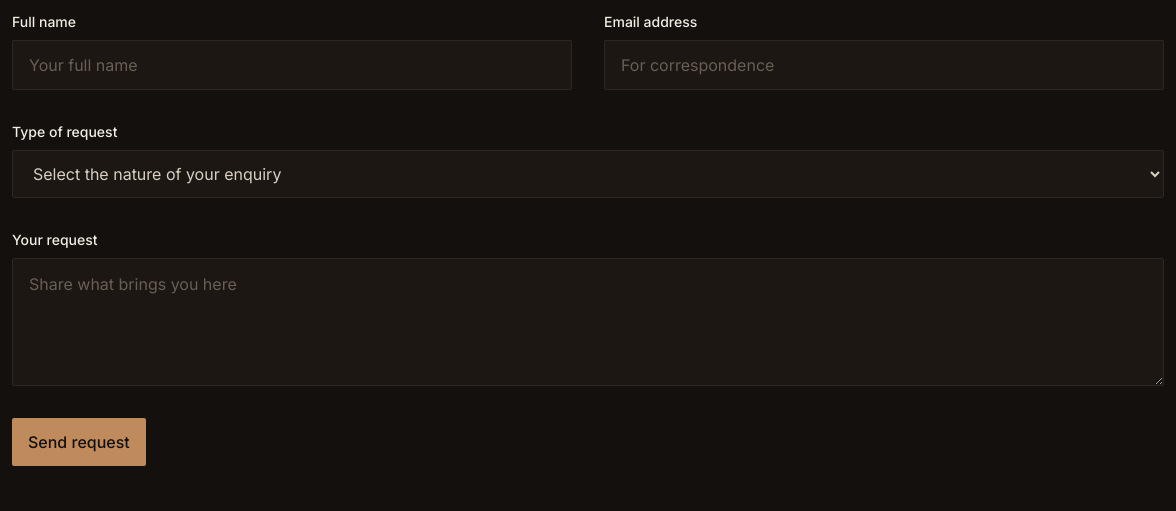
Test case: RequestForm — submitting › blocks a submission without a name
Type "thandi@example.com" into the field labelled "Email address" at {"x": 884, "y": 65}, box [604,40,1164,90]
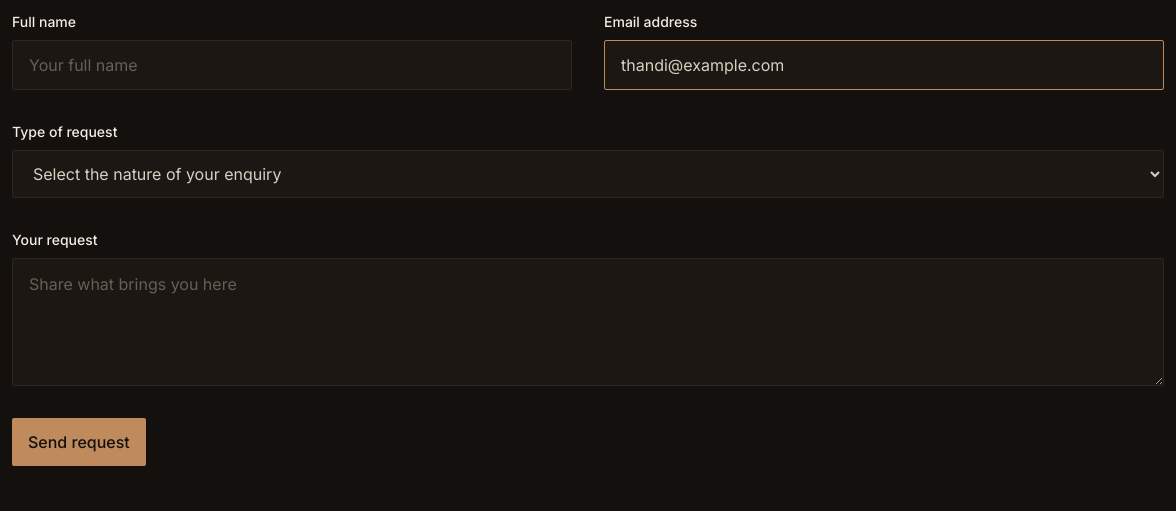
Select "Artwork enquiry" in the dropdown labelled "Type of request" at {"x": 588, "y": 174}, box [12,150,1164,198]
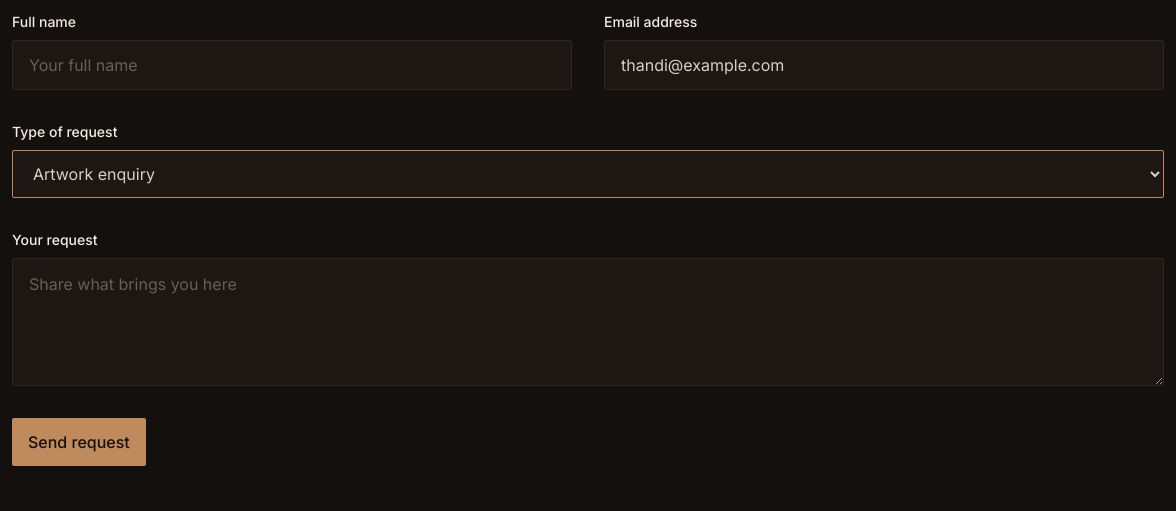
Type "Enquiry" into the text box labelled "Your request" at {"x": 588, "y": 322}, box [12,258,1164,386]
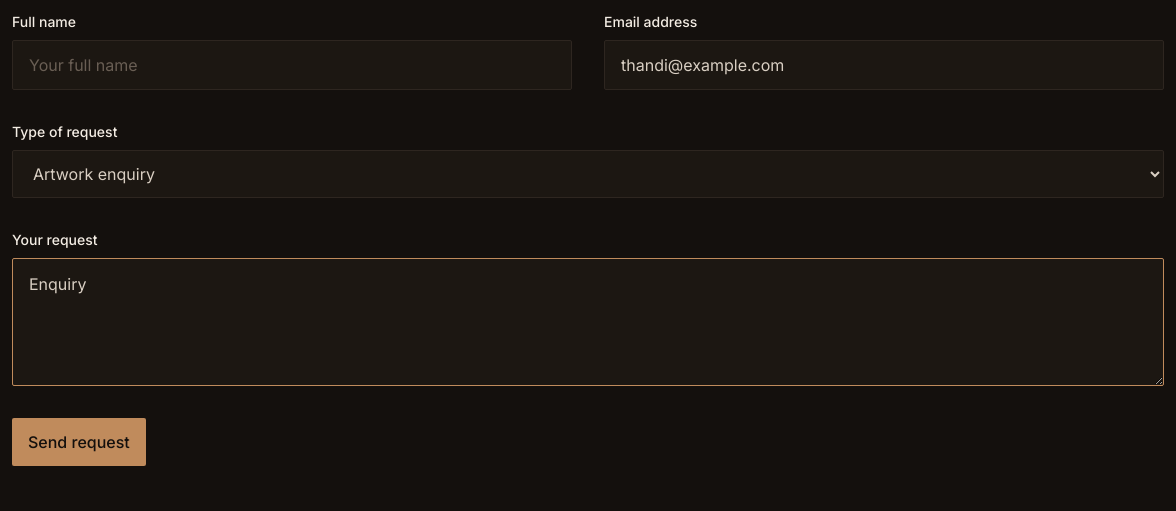
Click the button "Send request" at {"x": 79, "y": 442}, box [12,418,146,466]
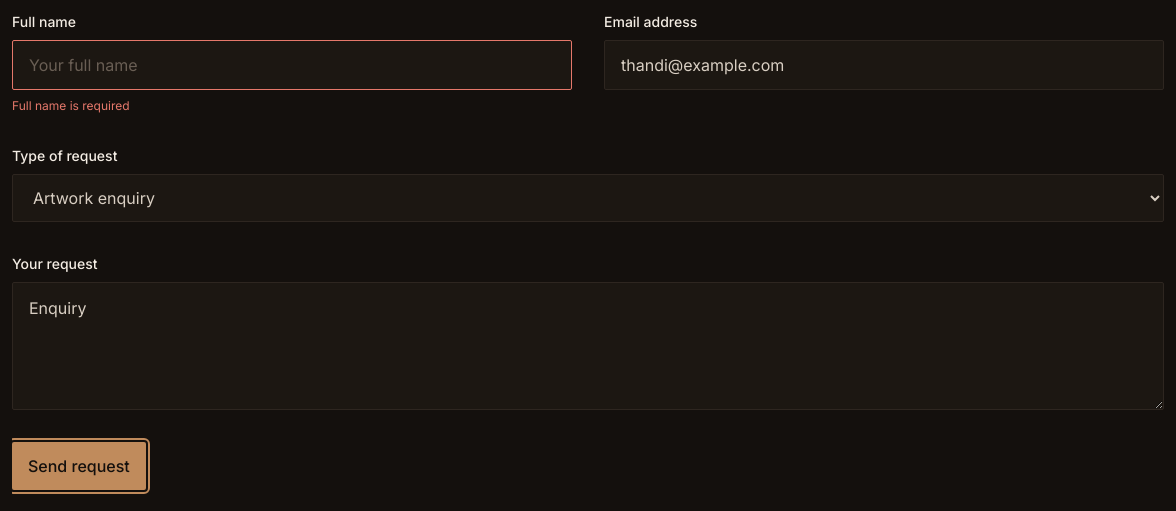
Expected: the text "Full name is required" is shown, [12,98,130,113]
